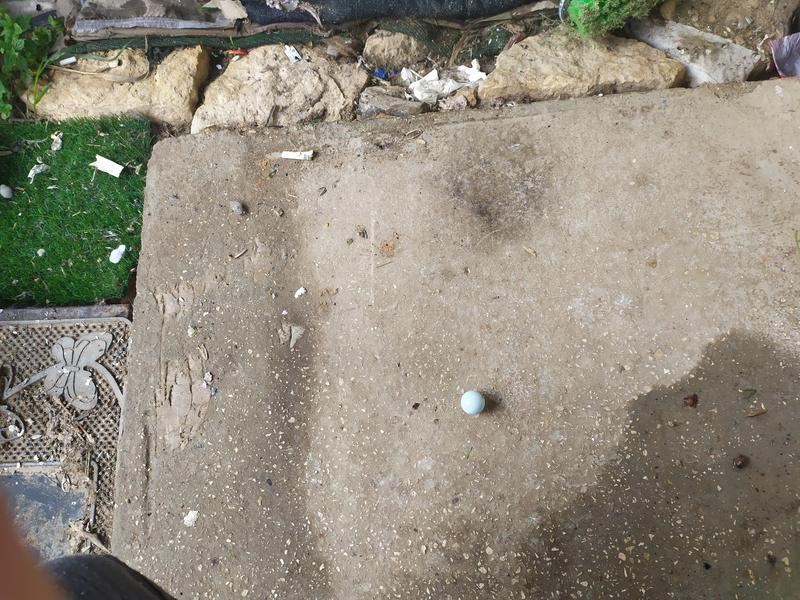Warning: (459, 389, 488, 416)
